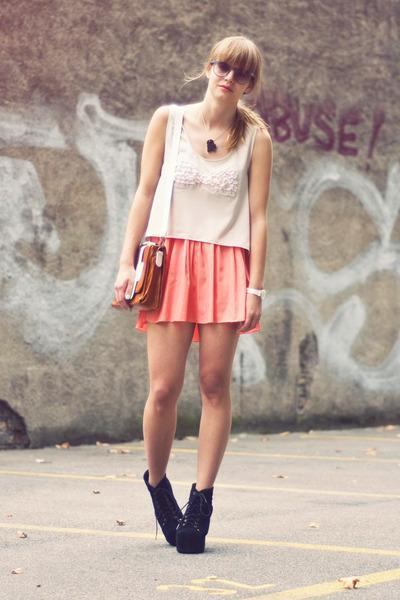bag: (112, 252, 168, 314)
shirt: (145, 104, 262, 251)
shoe: (144, 471, 212, 553)
skirt: (139, 228, 265, 332)
